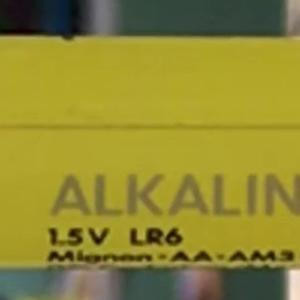keyword: (44, 168, 162, 223)
